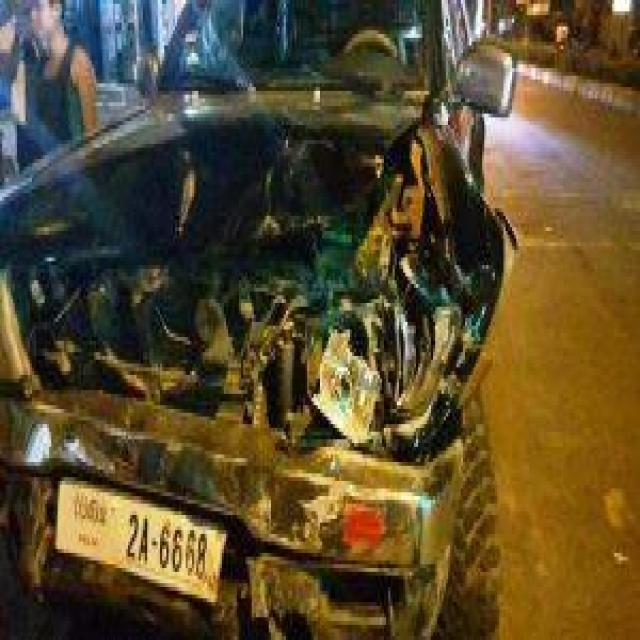Pailin: (72, 489, 108, 530)
